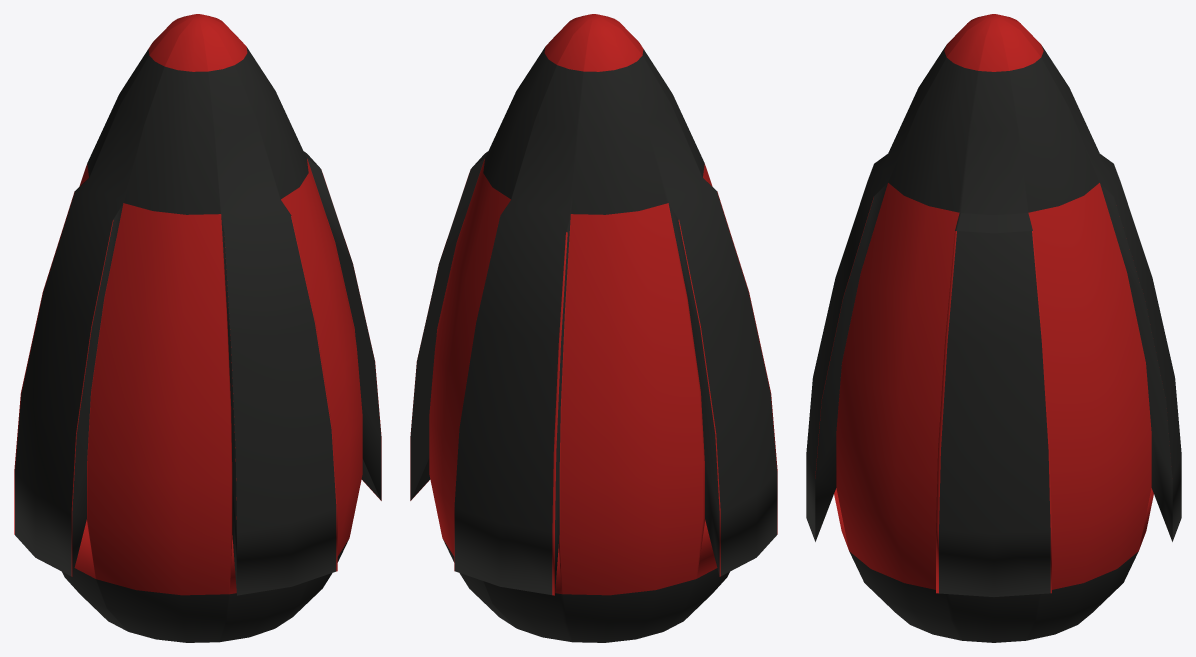
The model's file is Rocket_Bullet.fbx.
3 views of the same model, side by side, from view 1: azimuth 30°, elevation 25°; view 2: azimuth 150°, elevation 25°; view 3: azimuth 270°, elevation 25° (orthographic).
Visible parts, largest first — view 1: RocketBullet; view 2: RocketBullet; view 3: RocketBullet.
Part boxes in pixels (<box>): RocketBullet: <box>14,14,381,642</box>; RocketBullet: <box>410,14,777,642</box>; RocketBullet: <box>806,14,1181,642</box>.
Size of the model in its own units: 68.94 by 122 by 68.94.
